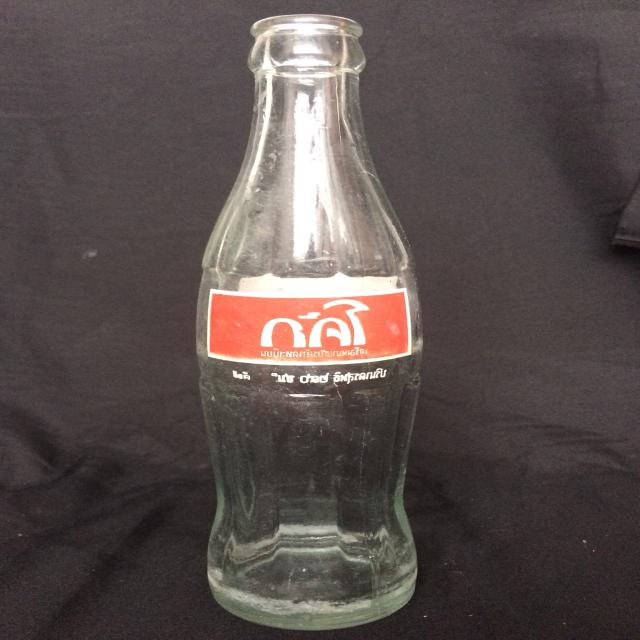glass: (190, 10, 430, 633)
